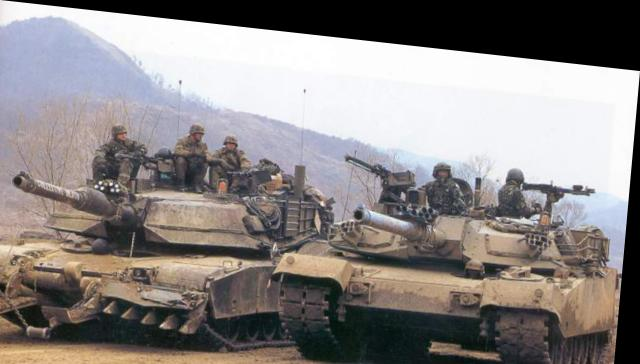other: (167, 113, 212, 184), (92, 116, 145, 175)
tank: (0, 147, 351, 354), (276, 181, 627, 364)
